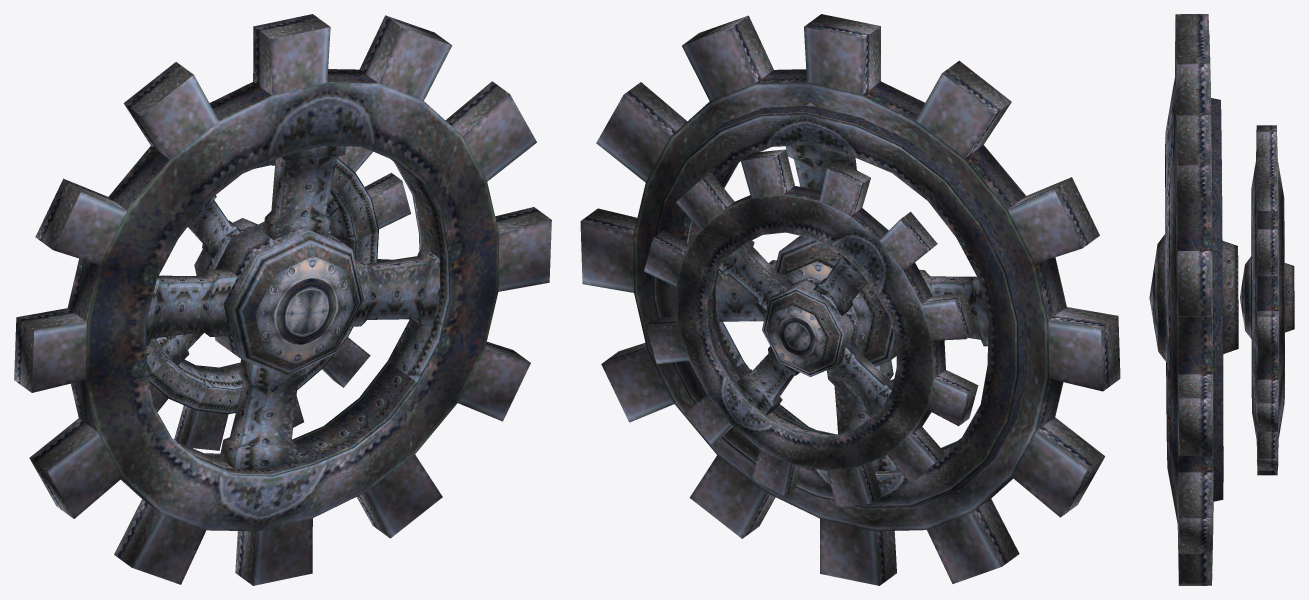
The model's file is S_Build_West001.FBX.
3 views of the same model, side by side, from view 1: azimuth 30°, elevation 25°; view 2: azimuth 150°, elevation 25°; view 3: azimuth 270°, elevation 25° (orthographic). The views are drawn at different scales.
Parts seen in each view (by area): view 1: S_Build_West001; view 2: S_Build_West001; view 3: S_Build_West001.
Part boxes in pixels (x1,y1,x2,y2): S_Build_West001: (14,14,551,585); S_Build_West001: (580,14,1120,585); S_Build_West001: (1149,14,1294,585).
Bounding box in the file's own units: 685 × 176 × 684.
